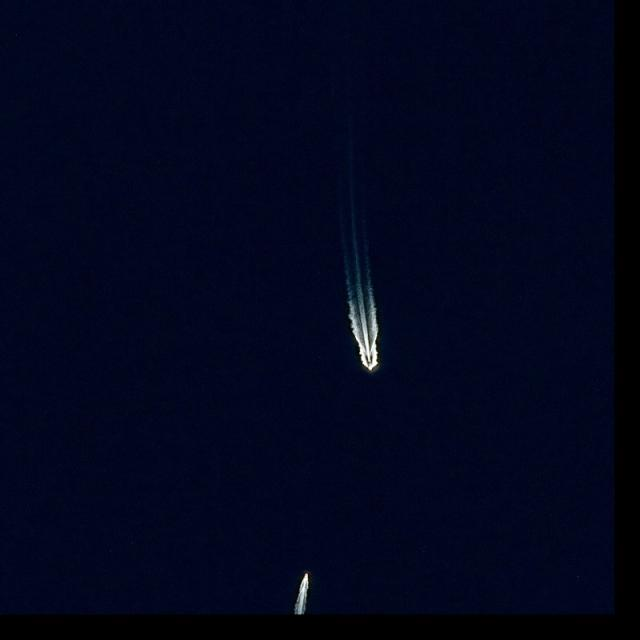ship: (367, 361, 373, 371), (303, 573, 310, 581)
